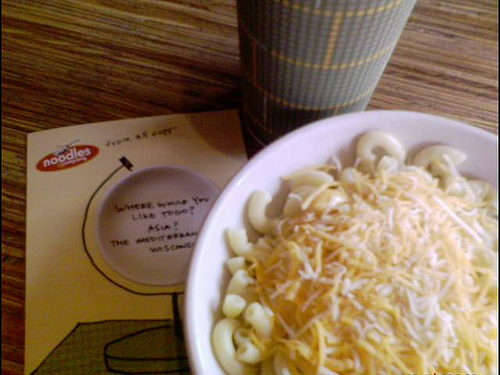macncheese: (204, 124, 500, 373)
